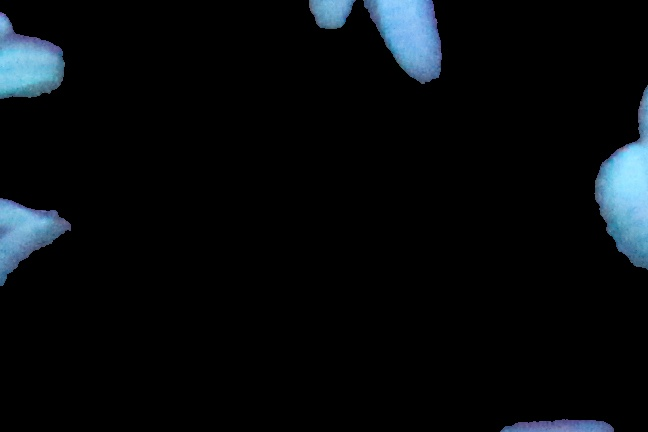larvae: (591, 139, 648, 276), (361, 1, 439, 82), (1, 218, 74, 282), (1, 34, 64, 102), (300, 1, 361, 32)
